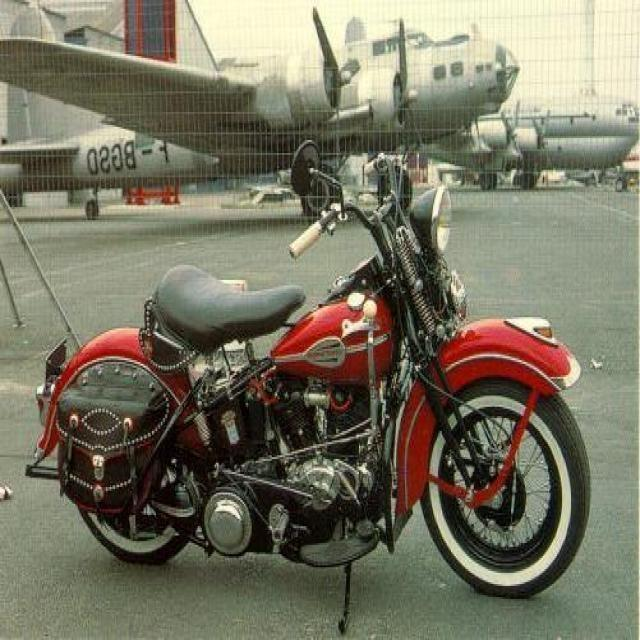Motorcycle: (44, 144, 600, 610)
